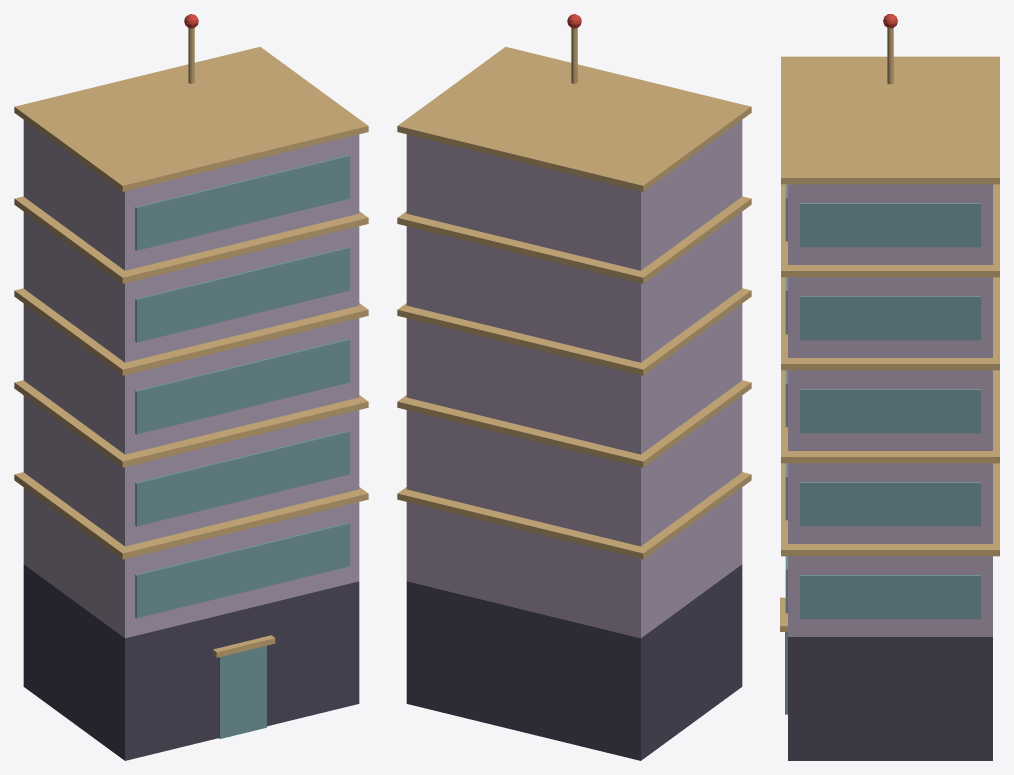
3 renders of one model, left to right at view 1: azimuth 30°, elevation 25°; view 2: azimuth 150°, elevation 25°; view 3: azimuth 270°, elevation 25°, orthographic.
Visible parts, largest first — view 1: RC-004 Lavender apartment slab batched; view 2: RC-004 Lavender apartment slab batched; view 3: RC-004 Lavender apartment slab batched.
Boxes of the visible parts, x1,y1,x2,y2 form: RC-004 Lavender apartment slab batched: [14, 14, 368, 760]; RC-004 Lavender apartment slab batched: [397, 14, 751, 760]; RC-004 Lavender apartment slab batched: [780, 14, 999, 760].
Bounding box in the file's own units: 8.4 × 22.22 × 6.43.
